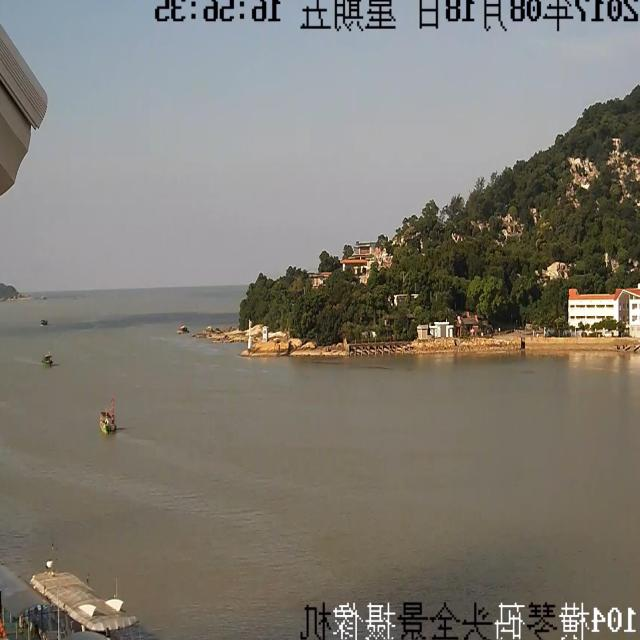fishing boat: (95, 391, 132, 445), (40, 340, 66, 380), (38, 305, 53, 344)
